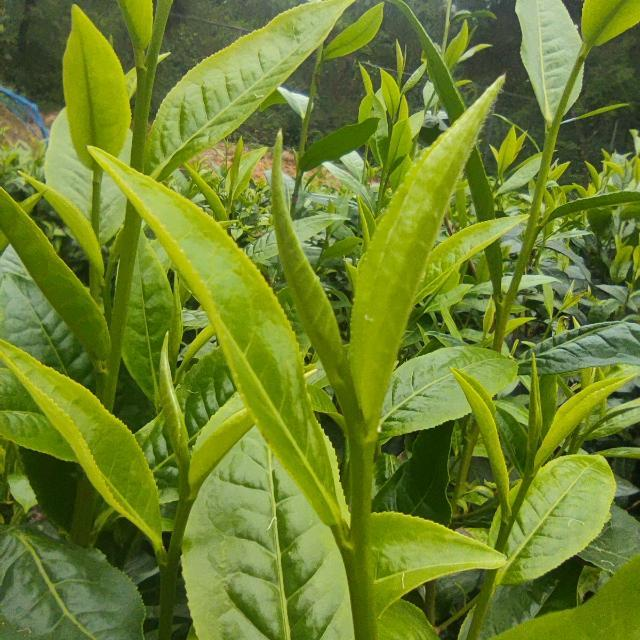Stem: (352, 437, 374, 457), (526, 472, 533, 480)
